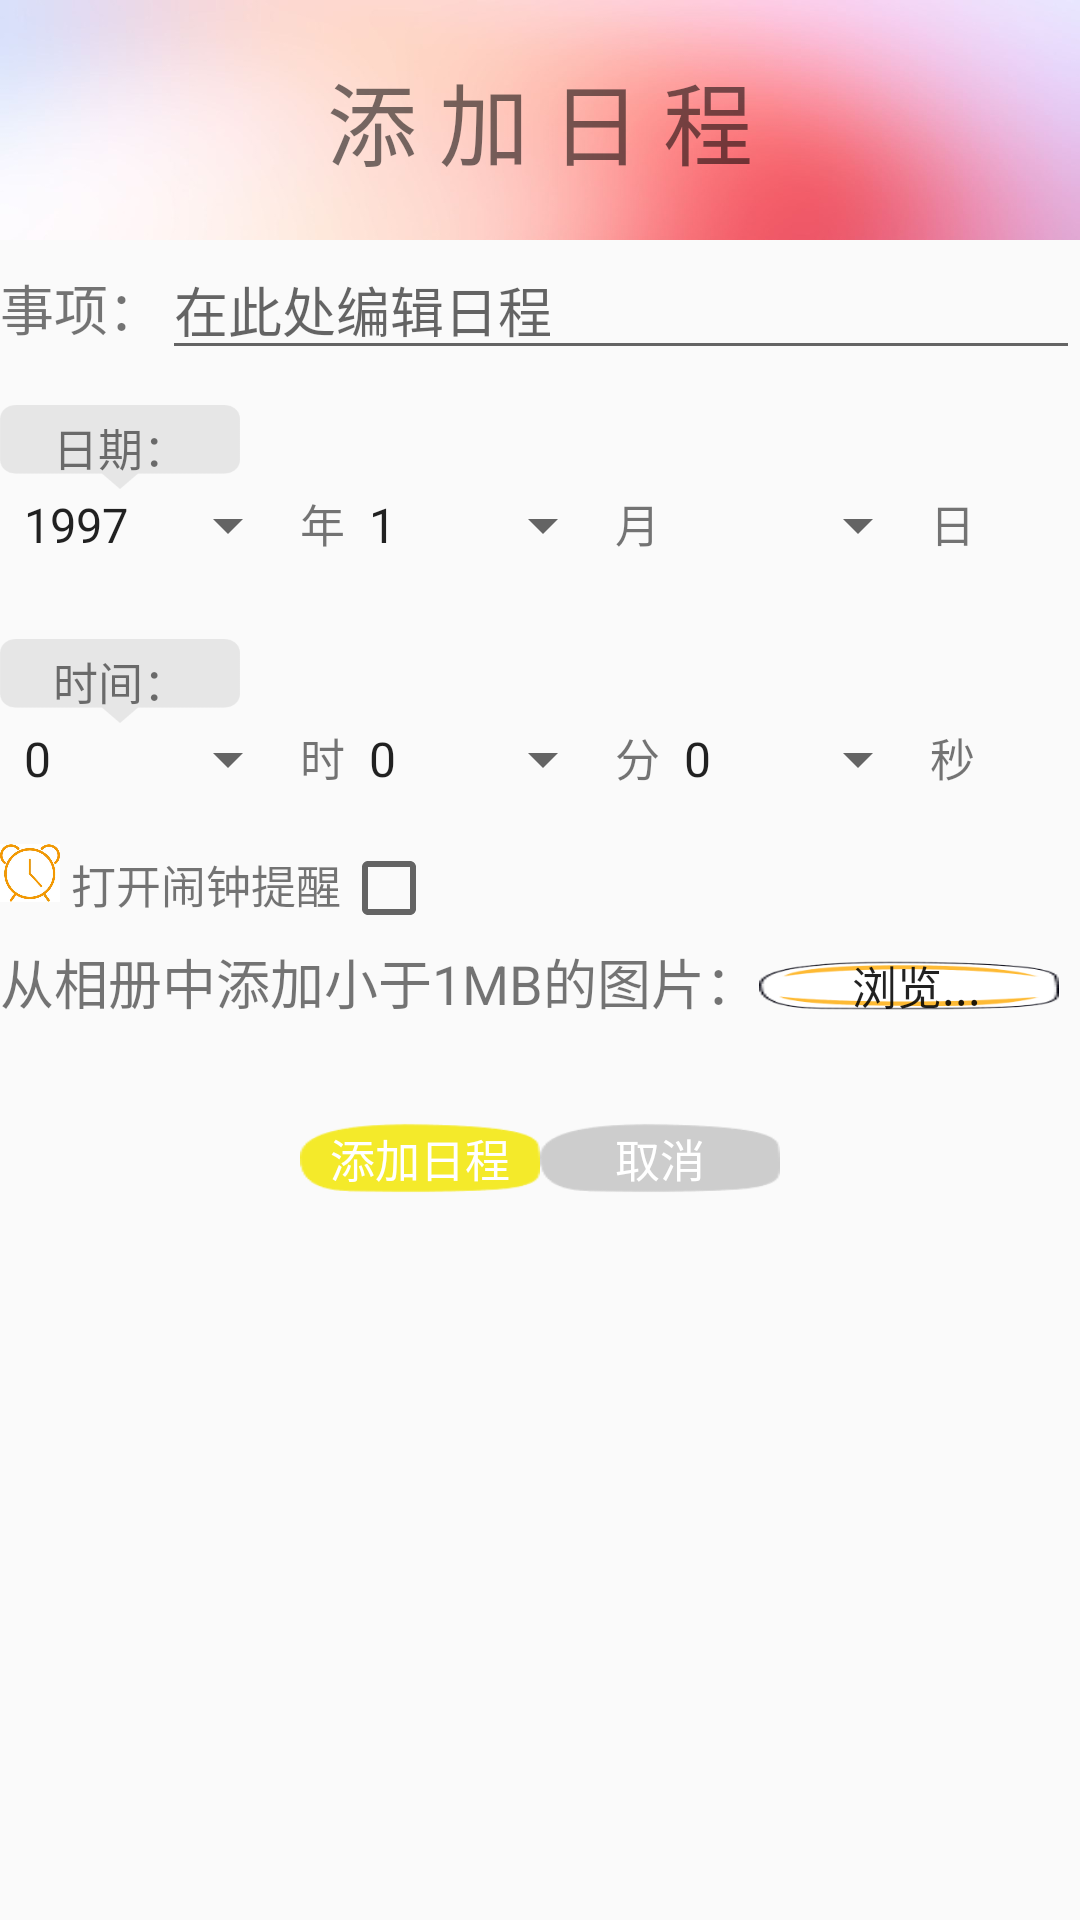

Screen size 1080×1920. Icon name, then its box in pixels as (x1, y1, x2, y2):
clock: (0, 844, 60, 902)
